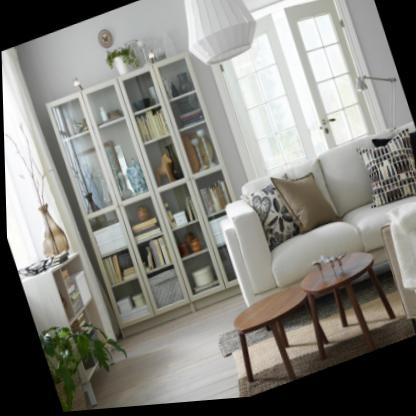Sofa: (203, 120, 416, 325)
